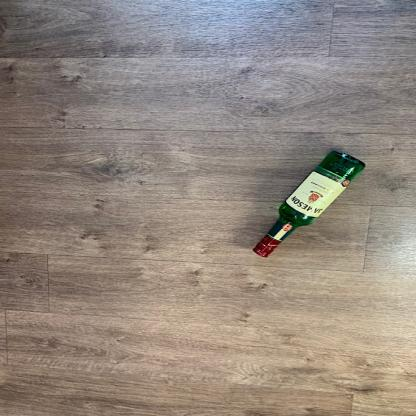trash: (252, 149, 366, 258)
